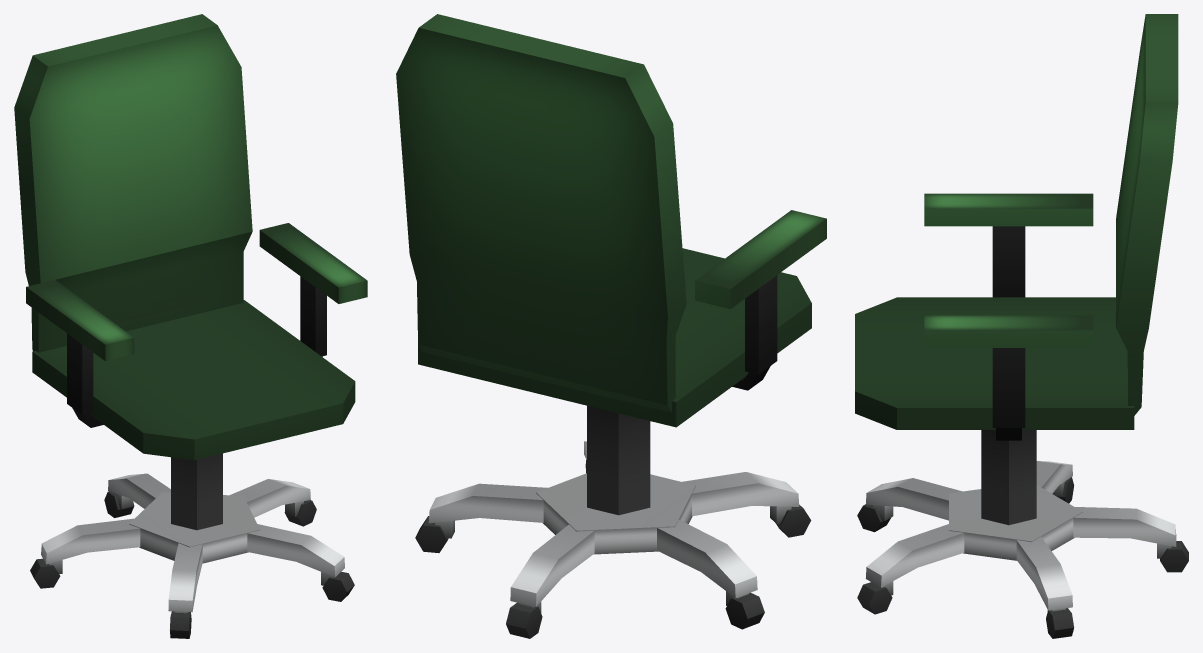
File: Chair_Office_Green.fbx
3 renders of one model, left to right at view 1: azimuth 30°, elevation 25°; view 2: azimuth 150°, elevation 25°; view 3: azimuth 270°, elevation 25°, orthographic. The views are drawn at different scales.
Parts seen in each view (by area): view 1: Chair_Office_Green; view 2: Chair_Office_Green; view 3: Chair_Office_Green.
Part boxes in pixels (left/top/right/bottom): Chair_Office_Green: left=14, top=14, right=367, bottom=638; Chair_Office_Green: left=396, top=14, right=826, bottom=638; Chair_Office_Green: left=855, top=14, right=1188, bottom=638.
Size of the model in its own units: 69.71 by 112 by 66.73.
